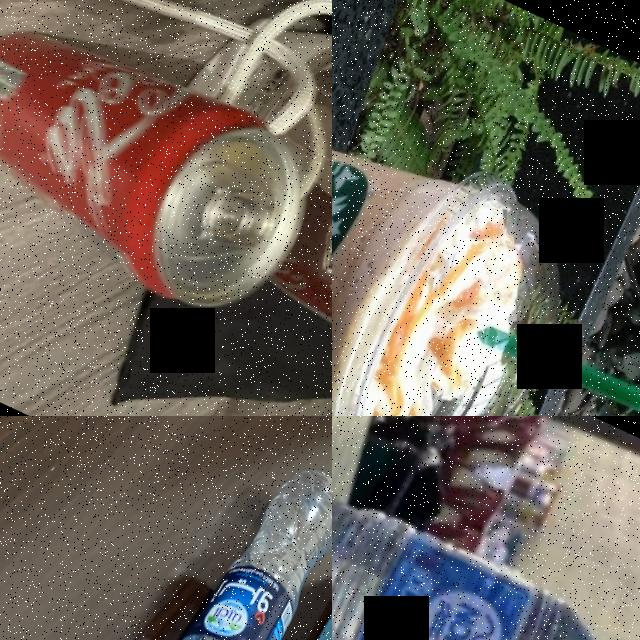bottle: (332, 416, 640, 640), (110, 443, 332, 640), (332, 543, 600, 640)
can: (0, 0, 329, 340)
cup: (332, 49, 605, 416)
